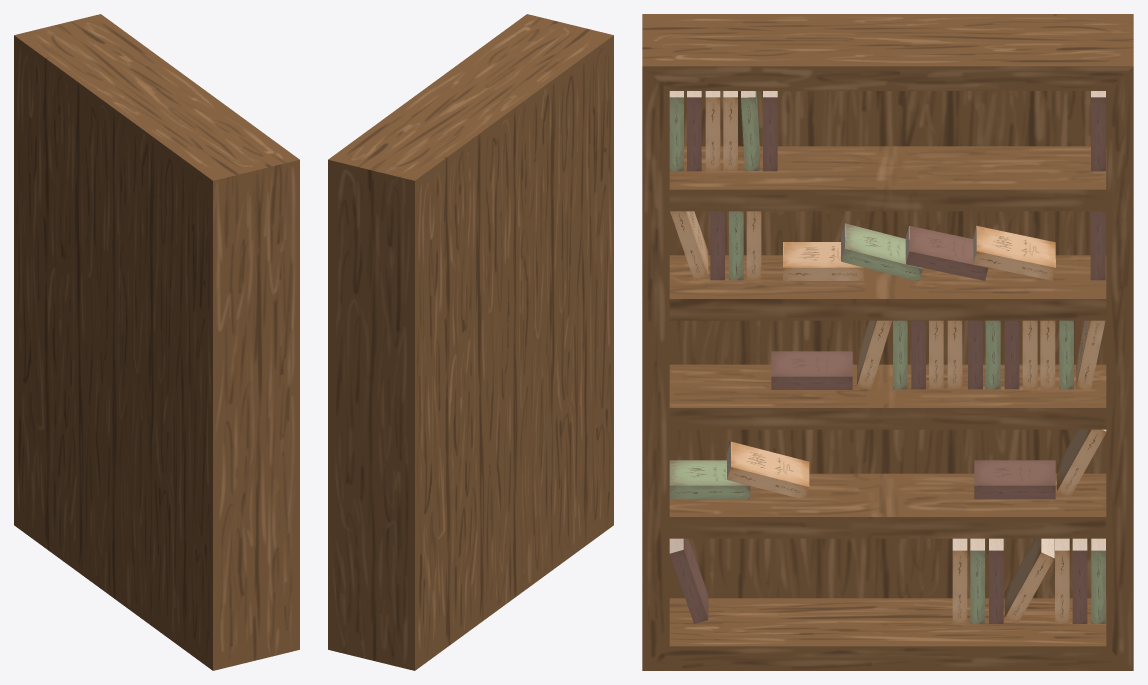
File: LowPolyBookShelffixed.fbx
The picture shows the model from 3 angles, left to right: view 1: azimuth 30°, elevation 25°; view 2: azimuth 150°, elevation 25°; view 3: azimuth 270°, elevation 25°; orthographic projection. The views are drawn at different scales.
Parts seen in each view (by area): view 1: Cube; view 2: Cube; view 3: Cube, Cube.032, Cube.011, Cube.031, Cube.027, Cube.005, Cube.004, Cube.030, Cube.002, Cube.037, Cube.041, Cube.033 (+30 smaller).
Boxes of the visible parts, x1,y1,x2,y2 form: Cube: [14, 14, 299, 670]; Cube: [328, 14, 613, 670]; Cube: [642, 14, 1133, 670]; Cube.032: [974, 460, 1055, 499]; Cube.011: [973, 225, 1055, 280]; Cube.031: [727, 441, 809, 499]; Cube.027: [771, 351, 852, 389]; Cube.005: [905, 226, 988, 280]; Cube.004: [841, 223, 922, 280]; Cube.030: [669, 460, 750, 499]; Cube.002: [783, 242, 864, 280]; Cube.037: [1004, 538, 1054, 623]; Cube.041: [669, 538, 708, 623]; Cube.033: [1057, 429, 1106, 497].
Bounding box in the file's own units: 206 × 1108 × 816.
